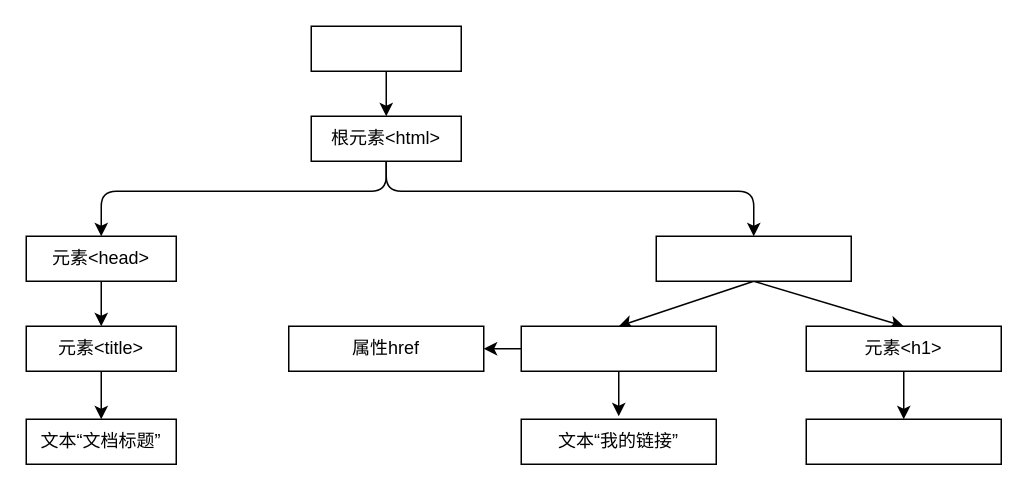
Image size: 1028x491. Some labels were removed from this diagram. Here are the shapes that lost their labels. From the top down, the box of each, then its label:
(310, 25, 461, 71): 文档
(655, 235, 851, 281): 元素<body>
(520, 325, 716, 371): 元素<a>
(805, 418, 1001, 464): 文本“我的标题”
